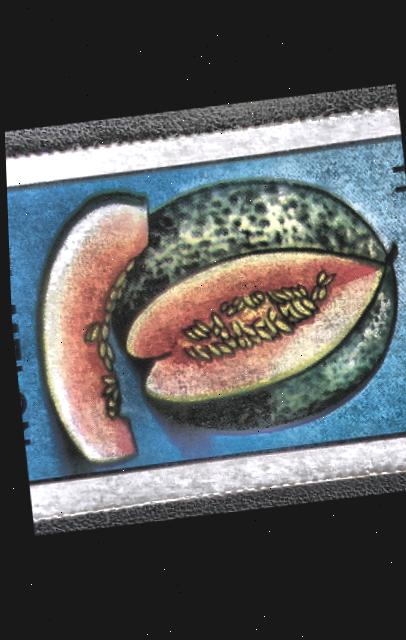El Melon: (4, 126, 406, 504)
